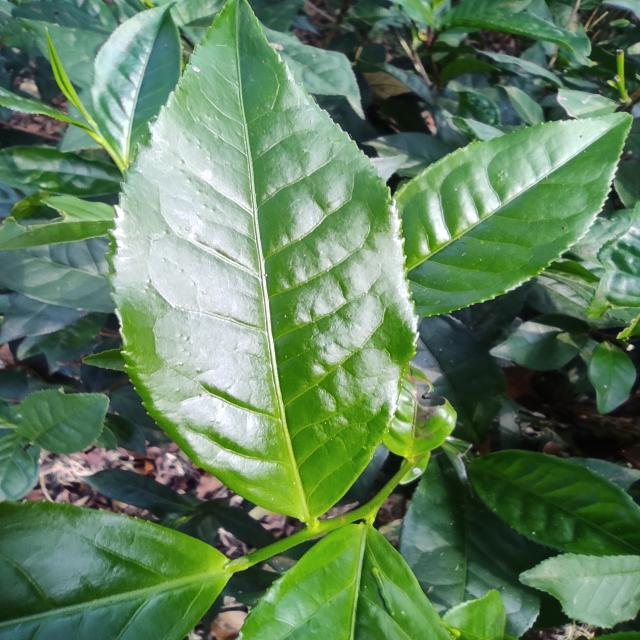Category D 7+ days, Not for Tea: (97, 0, 431, 528)
